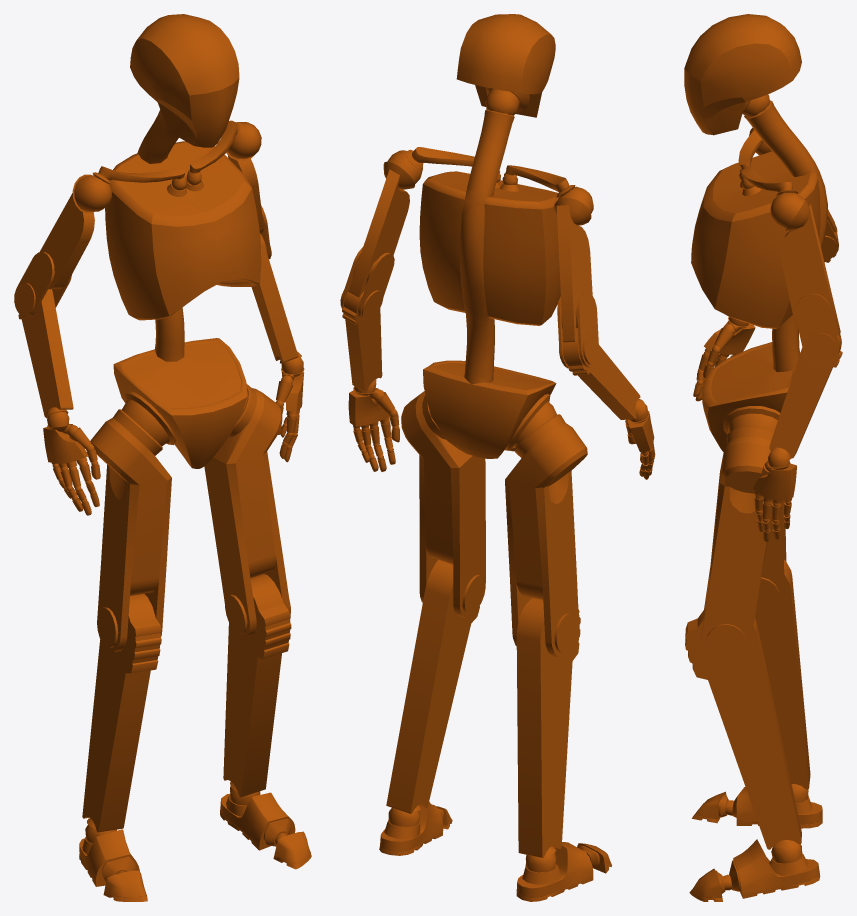
The model's file is RobotAnimacja_000003.obj.
The picture shows the model from 3 angles, left to right: view 1: azimuth 30°, elevation 25°; view 2: azimuth 150°, elevation 25°; view 3: azimuth 270°, elevation 25°; orthographic projection.
Visible parts, largest first — view 1: free3dmodel.001; view 2: free3dmodel.001; view 3: free3dmodel.001.
Part boxes in pixels (left/top/right/bottom): free3dmodel.001: left=14, top=14, right=311, bottom=901; free3dmodel.001: left=340, top=14, right=655, bottom=901; free3dmodel.001: left=684, top=14, right=842, bottom=901.
Size of the model in its own units: 2.05 by 6.03 by 1.04.
